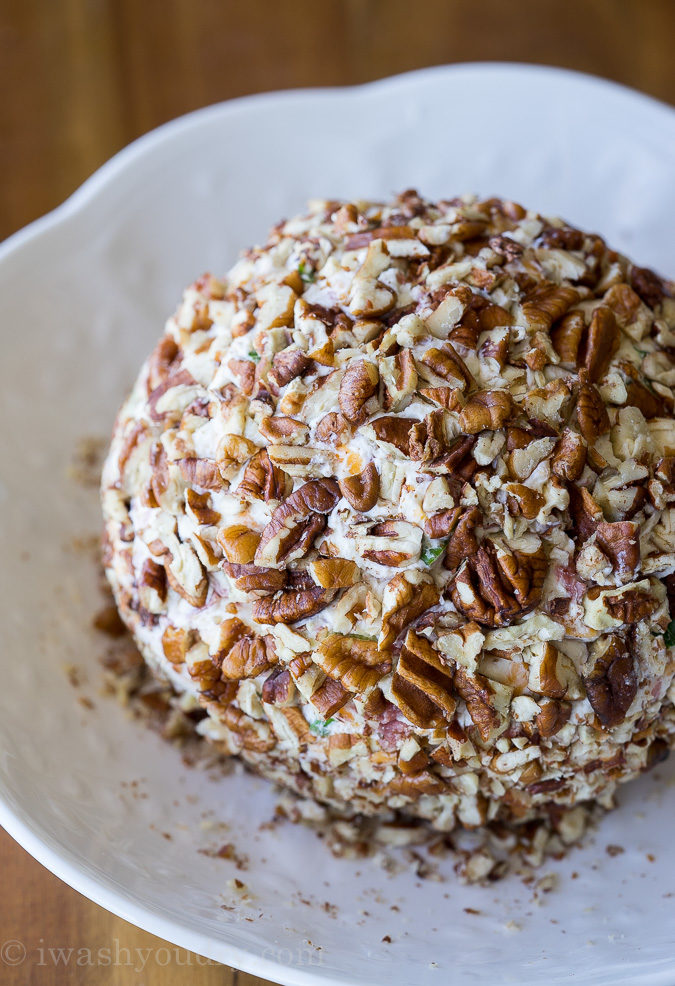cheese: (164, 338, 544, 603)
